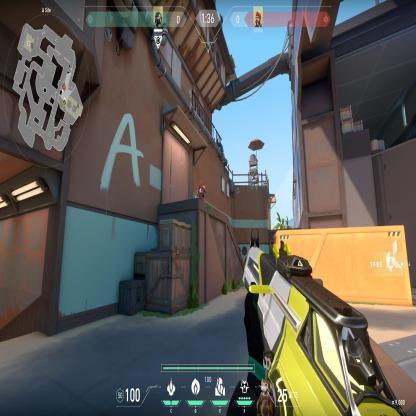enemy: (197, 180, 207, 202)
